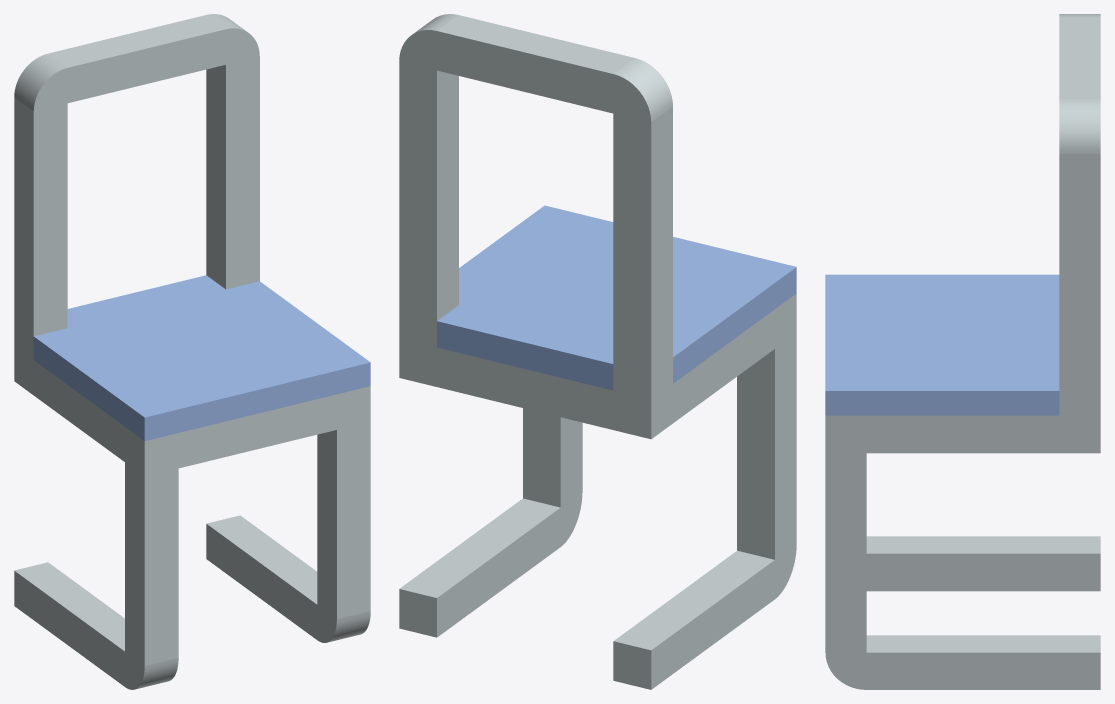
Rendered from chairModernFrameCushion.glb.
3 views of the same model, side by side, from view 1: azimuth 30°, elevation 25°; view 2: azimuth 150°, elevation 25°; view 3: azimuth 270°, elevation 25° (orthographic). The views are drawn at different scales.
Visible parts, largest first — view 1: chairModernFrameCushion(Clone); view 2: chairModernFrameCushion(Clone); view 3: chairModernFrameCushion(Clone).
Part boxes in pixels (x1=…): chairModernFrameCushion(Clone): x1=14, y1=14, x2=370, y2=689; chairModernFrameCushion(Clone): x1=399, y1=14, x2=796, y2=689; chairModernFrameCushion(Clone): x1=825, y1=14, x2=1100, y2=689.
Bounding box in the file's own units: 0.2 × 0.46 × 0.2.
